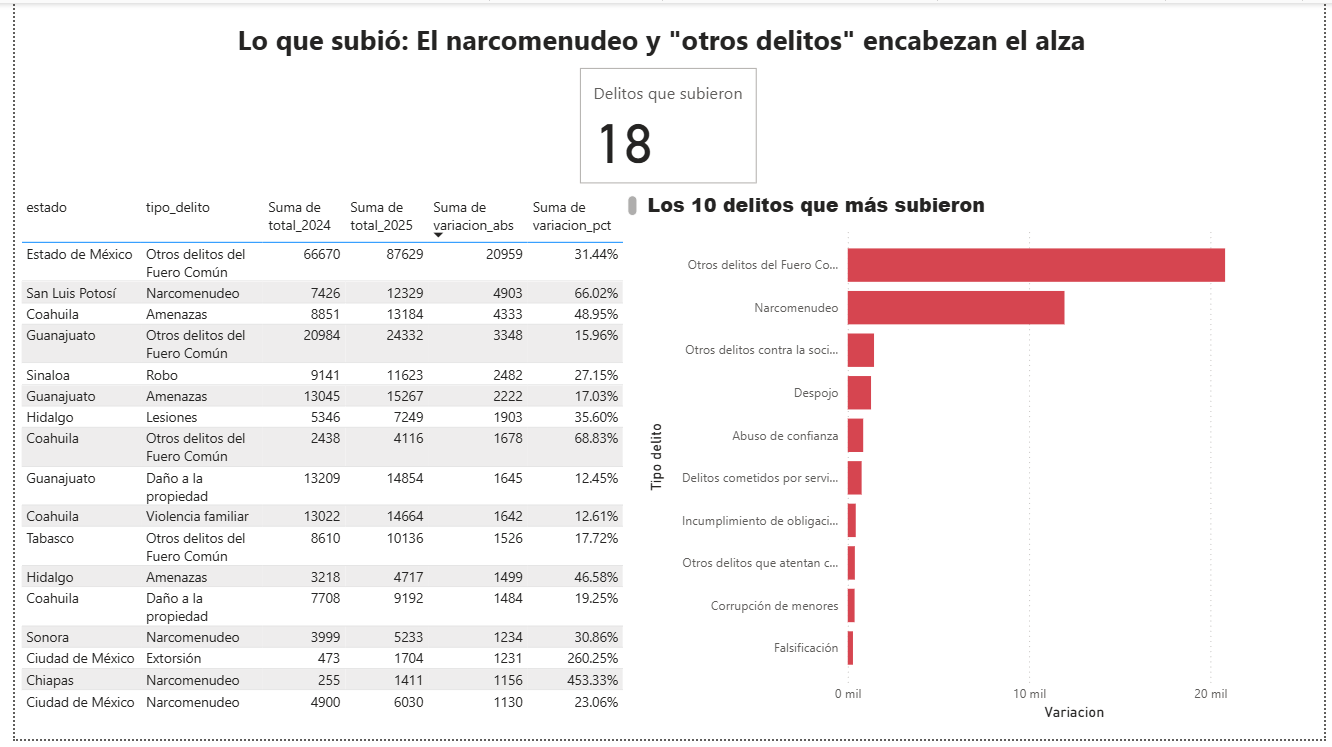

The dashboard page shown, as its layout file describes it:
{"tool":"powerbi","page":{"name":"Negativos","canvas":[1280,720],"ordinal":2},"visuals":[{"type":"textbox","box":[213.3,12.3,853.3,46.6],"z":0},{"type":"cardVisual","fields":{"Data":["fact_incidencia_mensual.Delitos que subieron"]},"box":[548,58.9,183.9,123.8],"z":1000},{"type":"clusteredBarChart","title":"Los 10 delitos que más subieron","fields":{"Y":["fact_incidencia_mensual.Variacion"],"Category":["dim_delito.tipo_delito"]},"box":[613.6,182.9,666.4,523.2],"z":2000},{"type":"tableEx","fields":{"Values":["negativos_subieron.estado","negativos_subieron.tipo_delito","Sum(negativos_subieron.total_2024)","Sum(negativos_subieron.total_2025)","Sum(negativos_subieron.variacion_abs)","Sum(negativos_subieron.variacion_pct)"]},"box":[0,182.9,613.6,514],"z":3000}]}

Visuals, with their boxes in screenshot pixels (x1, y1, x2, y2), scaled from the page's 1280x720 canvas onto the 1332x747 screenshot:
textbox: 222,13,1110,61
cardVisual - fact_incidencia_mensual.Delitos que subieron: 570,61,762,190
"Los 10 delitos que más subieron" clusteredBarChart: 639,190,1331,733
tableEx - negativos_subieron.estado x negativos_subieron.tipo_delito: 0,190,639,723
